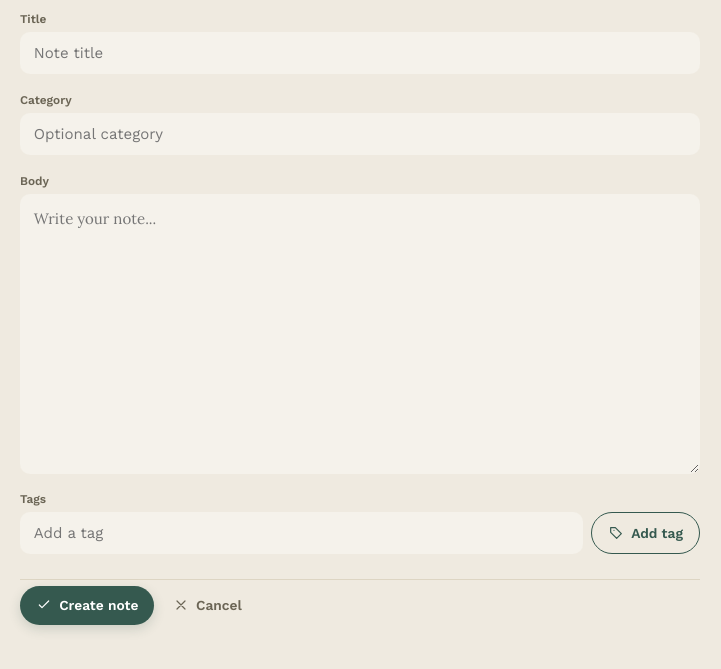
NoteForm validation › shows an error and does not save when there are no tags
Type "Groceries" into the field labelled "Title" at (360, 53), box [20, 32, 700, 74]
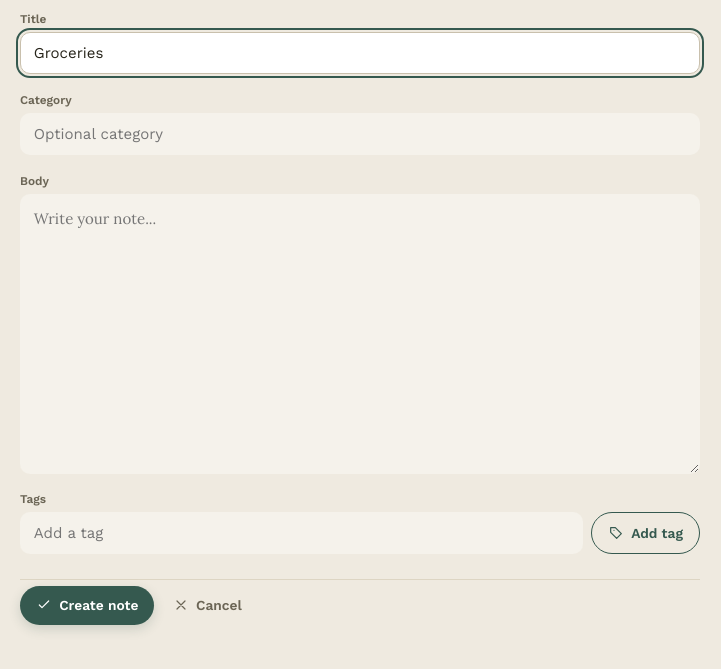
Click the button "Create note" at (87, 605), box [20, 586, 154, 625]
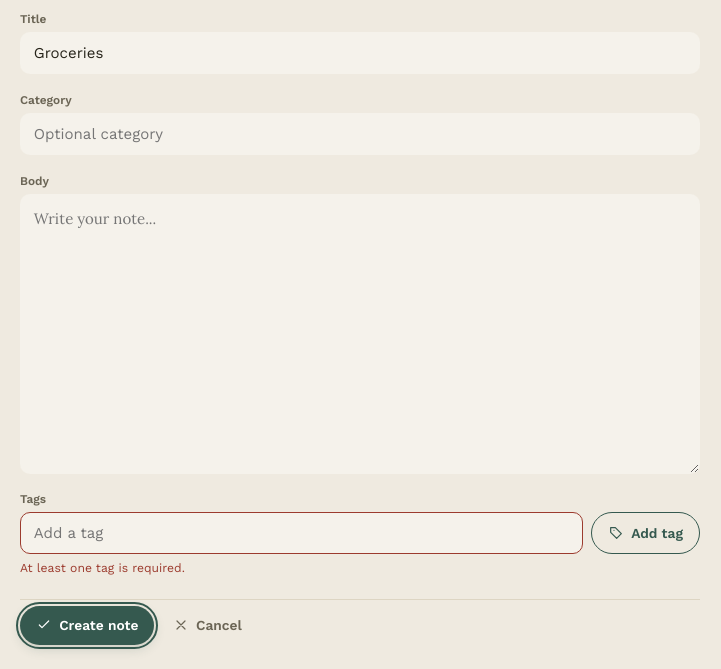
Now the text "At least one tag is required." is shown, box [20, 560, 185, 574]
